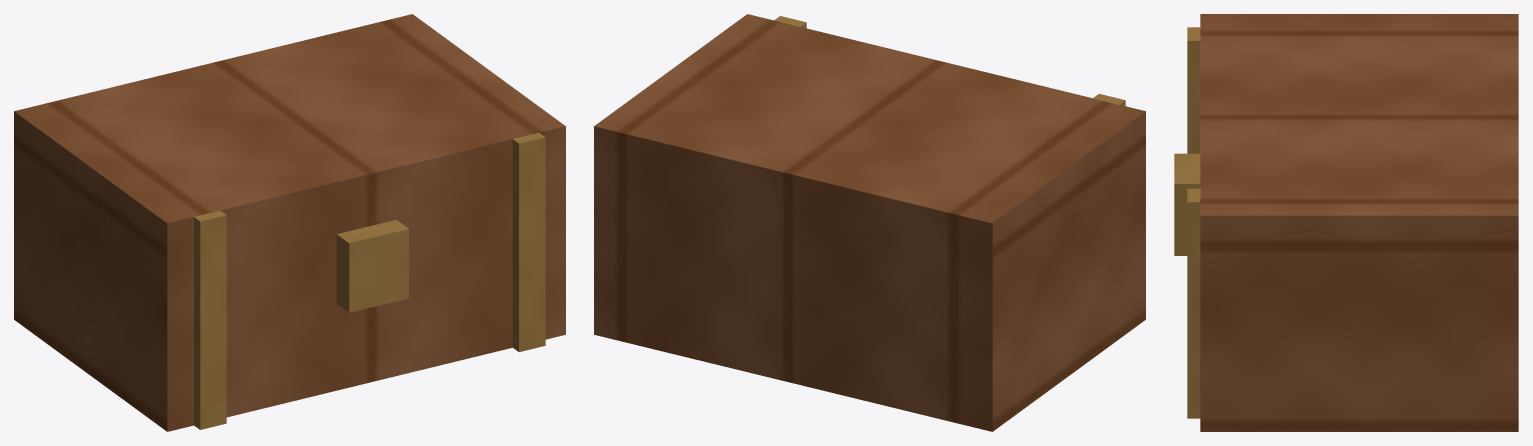
Rendered from chest_base.obj.
3 renders of one model, left to right at view 1: azimuth 30°, elevation 25°; view 2: azimuth 150°, elevation 25°; view 3: azimuth 270°, elevation 25°, orthographic. The views are drawn at different scales.
Visible parts, largest first — view 1: chest_base; view 2: chest_base; view 3: chest_base.
Boxes of the visible parts, x1,y1,x2,y2 form: chest_base: (14,14,565,431); chest_base: (594,14,1145,431); chest_base: (1174,14,1518,431).
Bounding box in the file's own units: 1.2 × 0.6 × 0.865.
2 materials, 2 textured.
